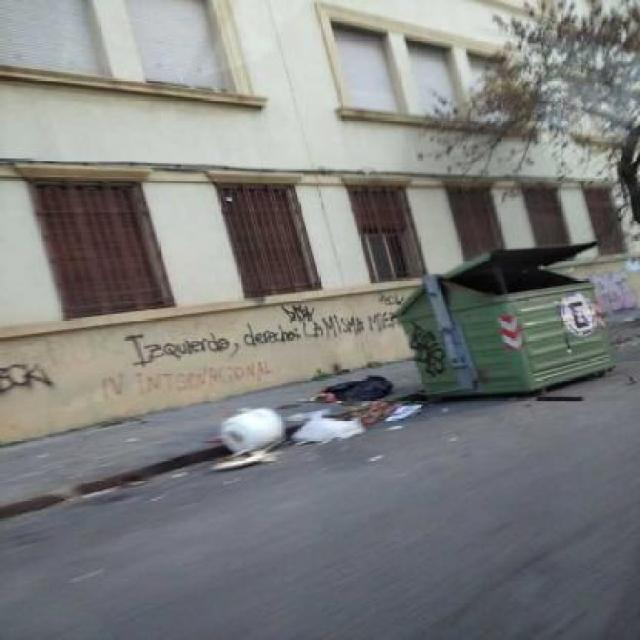garbage: (266, 409, 410, 449), (220, 392, 286, 464), (311, 371, 409, 398), (528, 389, 588, 406)
